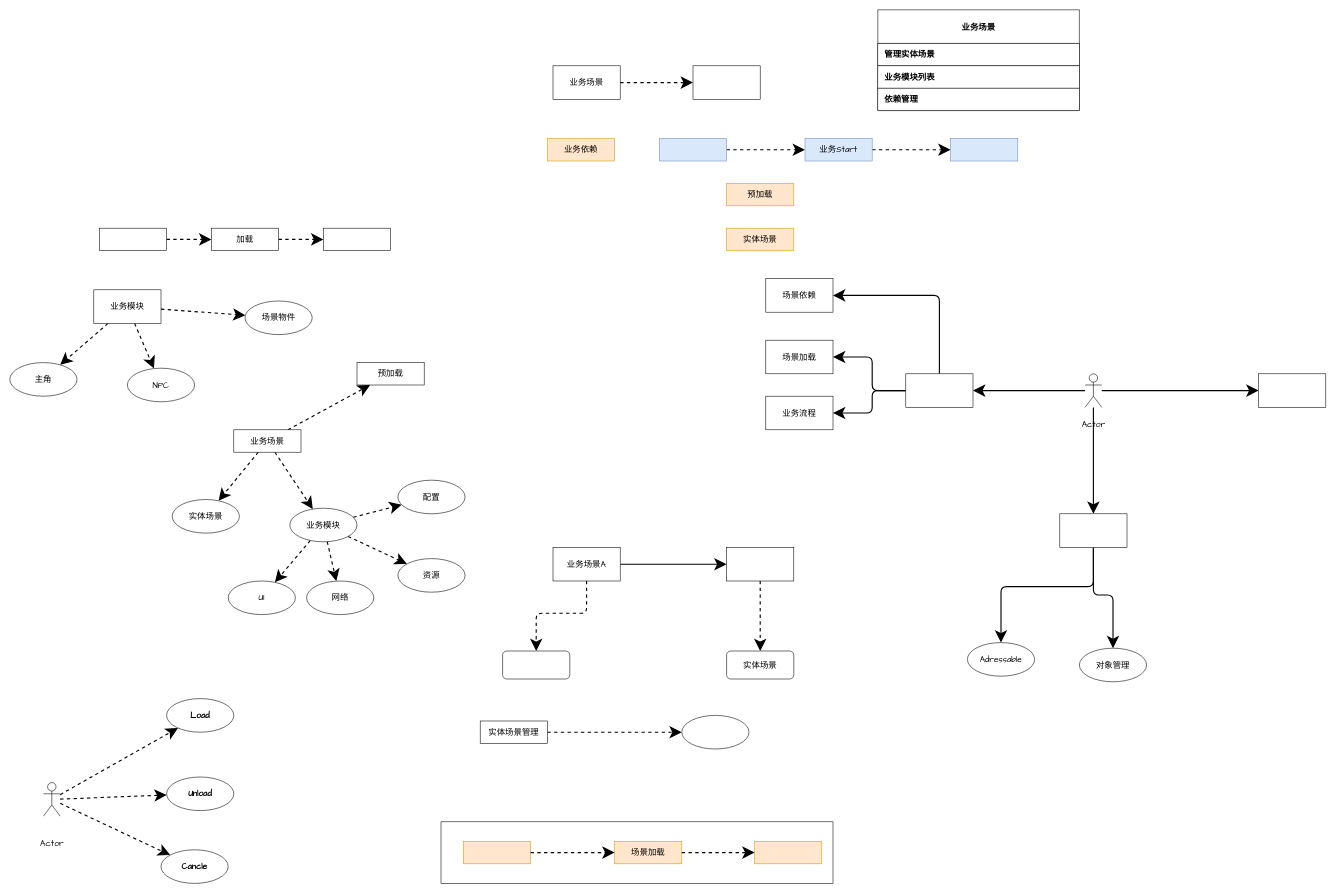
Image size: 1336x893. Some labels were removed from this diagram. The centre of each missing label's shape, as x and y in pixels:
"AB加载" goes at (497,852).
"UI 框架" goes at (1292,390).
"业务Active" goes at (984,149).
"业务Awake" goes at (693,149).
"业务场景B" goes at (760,564).
"业务场景管理" goes at (939,390).
"准备" goes at (133,239).
"场景激活" goes at (788,852).
"实体场景1" goes at (536,664).
"流程化" goes at (726,82).
"激活" goes at (357,239).
"生命周期" goes at (715,732).
"资源管理" goes at (1093,530).
